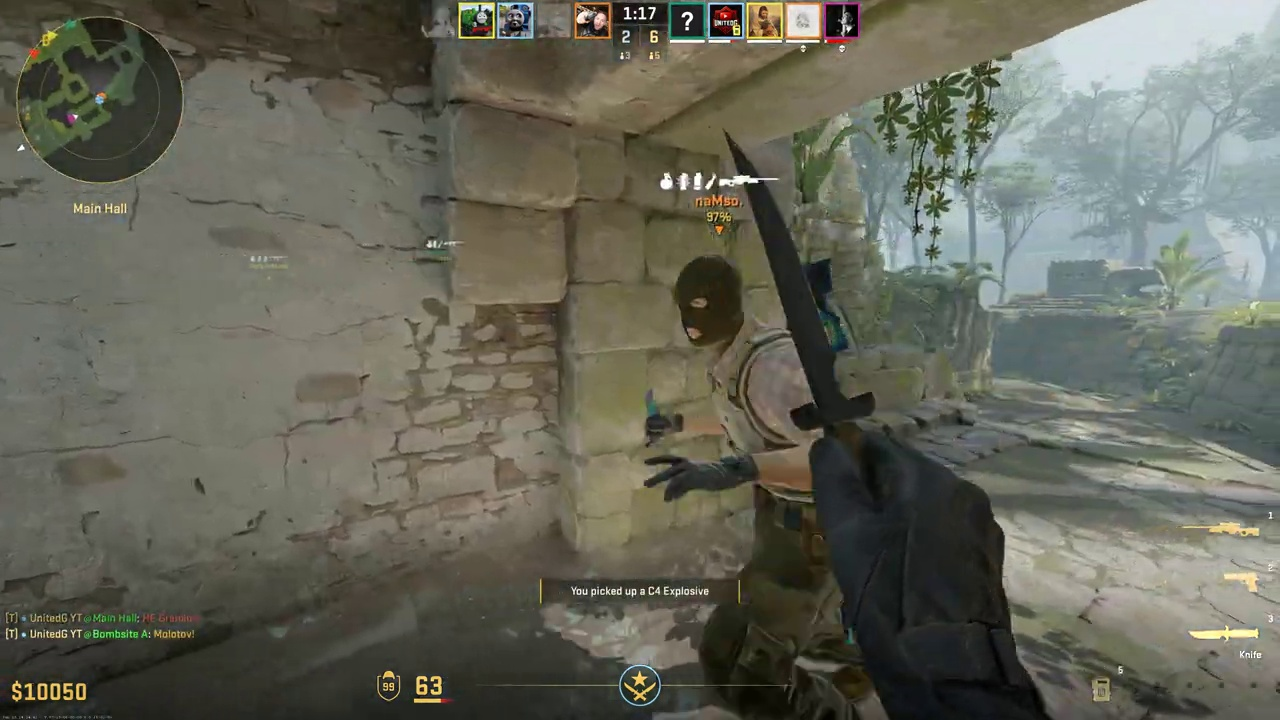Terrorist: (644, 257, 844, 714)
